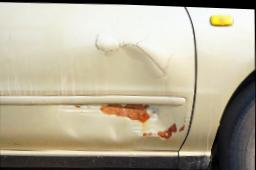Door: (65, 20, 195, 150)
